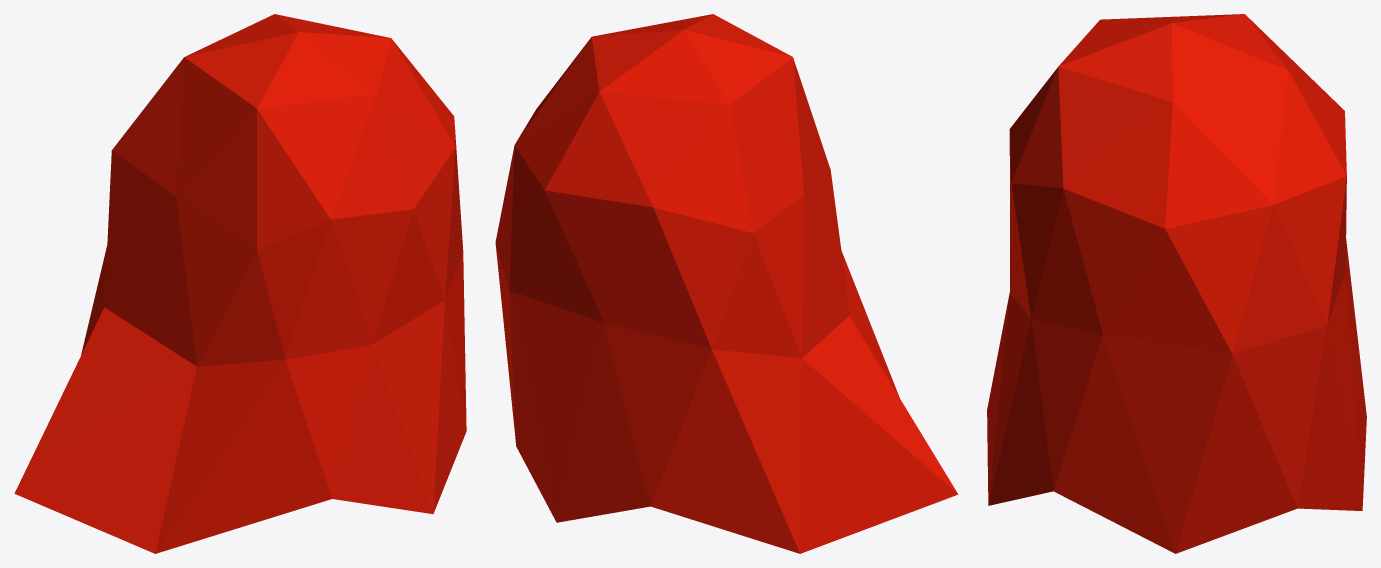
File: Ghost.glb
3 renders of one model, left to right at view 1: azimuth 30°, elevation 25°; view 2: azimuth 150°, elevation 25°; view 3: azimuth 270°, elevation 25°, orthographic. The views are drawn at different scales.
Visible parts, largest first — view 1: Ghost; view 2: Ghost; view 3: Ghost.
Part boxes in pixels (left/top/right/bottom): Ghost: left=14, top=14, right=466, bottom=553; Ghost: left=495, top=14, right=958, bottom=553; Ghost: left=987, top=14, right=1366, bottom=553.
Size of the model in its own units: 4.67 by 4.45 by 3.27.
